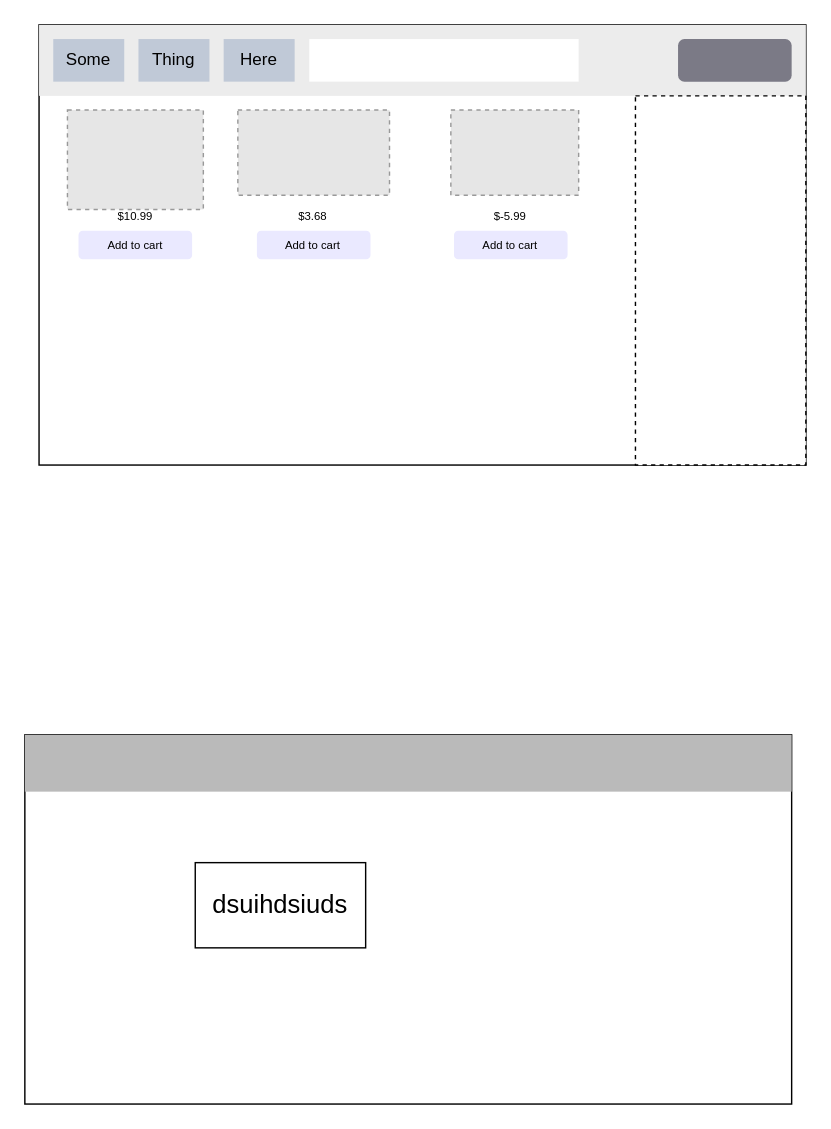
The diagram is 831 pixels wide and 1129 high, and some of its shapes have lost their labels. Grey dashed boxes stand in for pictures. The shapes that lost their labels are listed below. From the top down, each one's centre as x and y in pixels, then its label:
(x=443, y=59): Search here...
(x=734, y=59): Checkout Cart
